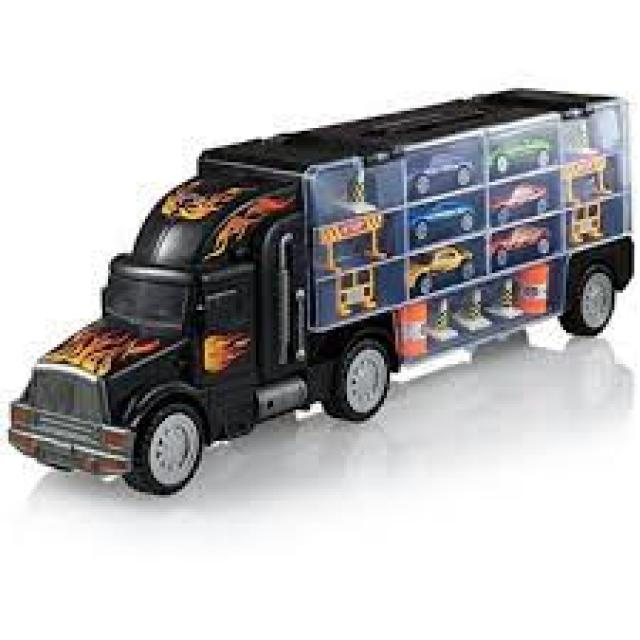Car: (6, 82, 634, 495)
